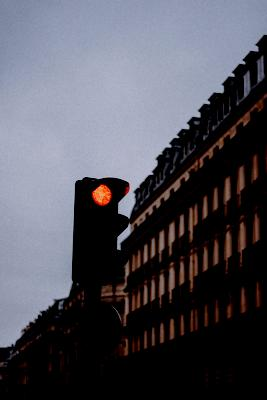International Road Signal Light: (72, 177, 130, 291)
